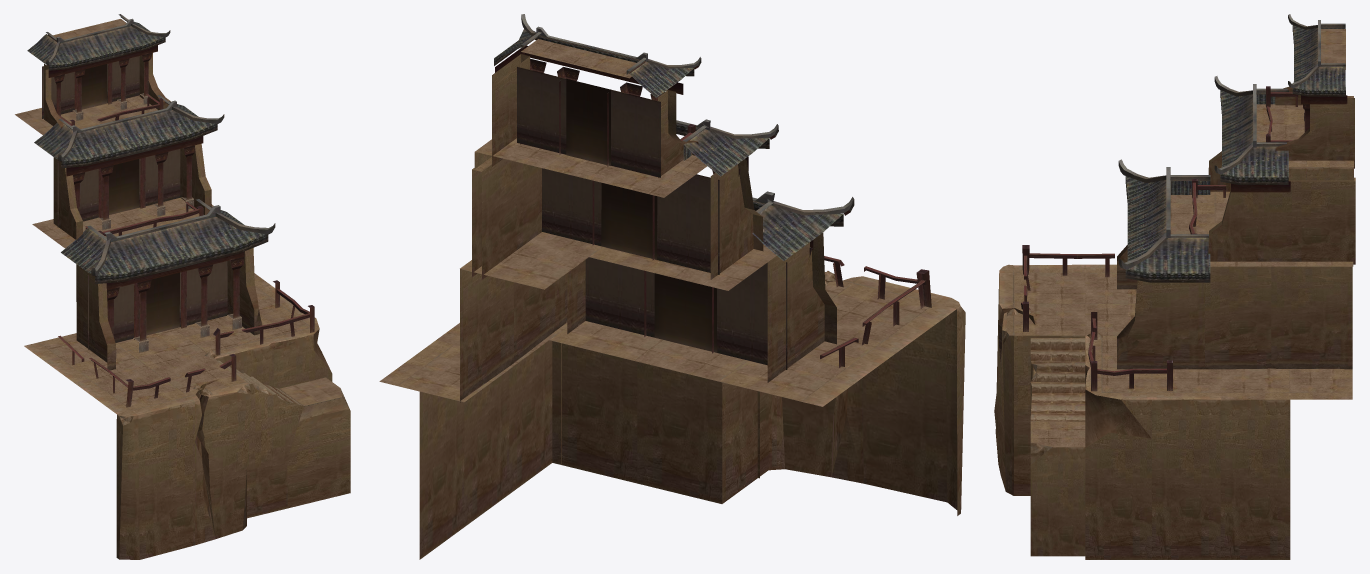
The model's file is yw_dunhuang_zhujian02.FBX.
3 views of the same model, side by side, from view 1: azimuth 30°, elevation 25°; view 2: azimuth 150°, elevation 25°; view 3: azimuth 270°, elevation 25° (orthographic). The views are drawn at different scales.
Parts seen in each view (by area): view 1: yw_dunhuang_zhujian02; view 2: yw_dunhuang_zhujian02; view 3: yw_dunhuang_zhujian02.
Part boxes in pixels (left/top/right/bottom): yw_dunhuang_zhujian02: left=15, top=14, right=350, bottom=559; yw_dunhuang_zhujian02: left=379, top=14, right=965, bottom=559; yw_dunhuang_zhujian02: left=994, top=14, right=1355, bottom=559.
Size of the model in its own units: 1153 by 1782 by 1305.
1 material, 1 textured.
